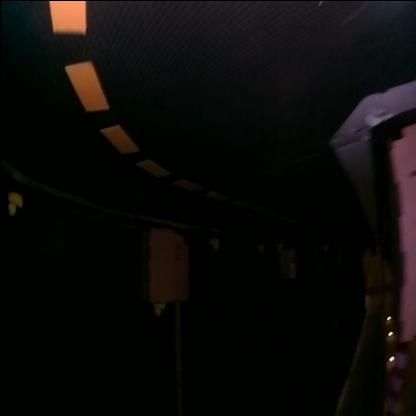Duckie: (8, 195, 22, 216), (154, 304, 166, 316), (210, 242, 220, 249), (259, 246, 264, 253), (277, 243, 281, 251)
